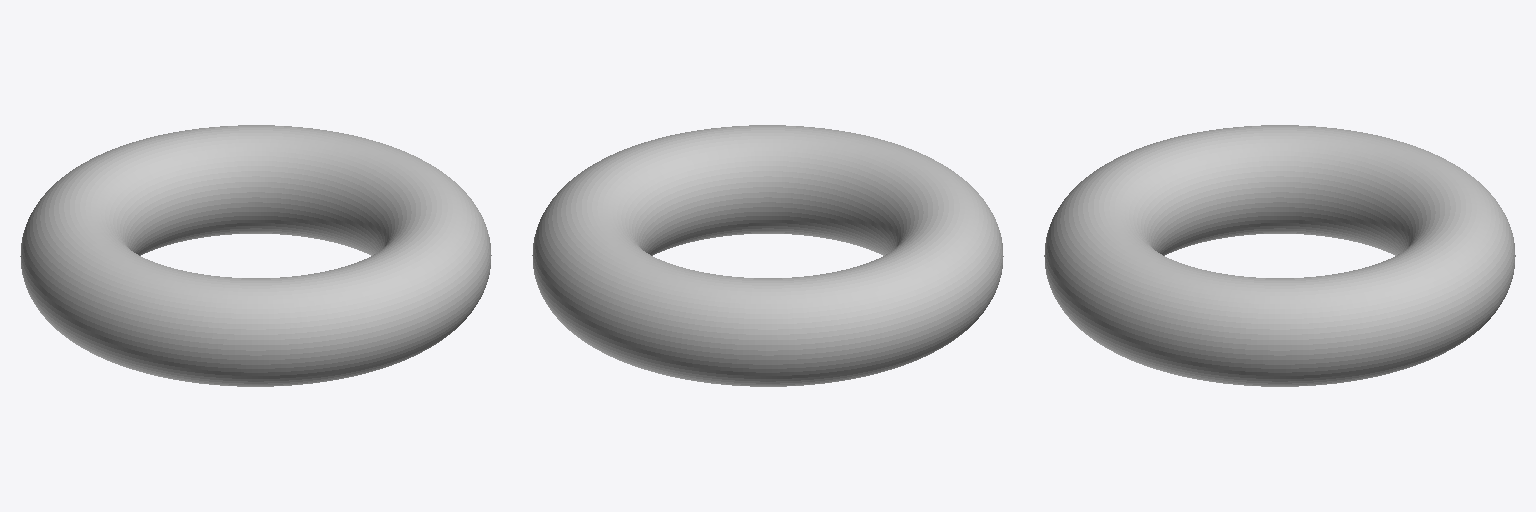
3 renders of one model, left to right at view 1: azimuth 30°, elevation 25°; view 2: azimuth 150°, elevation 25°; view 3: azimuth 270°, elevation 25°, orthographic.
Visible parts, largest first — view 1: 环体_环体.002; view 2: 环体_环体.002; view 3: 环体_环体.002.
Boxes of the visible parts, box(x1,y1,x2,y2) form: 环体_环体.002: box(20, 125, 491, 386); 环体_环体.002: box(532, 125, 1003, 386); 环体_环体.002: box(1044, 125, 1515, 386).
Bounding box in the file's own units: 2.6 × 0.6 × 2.6.